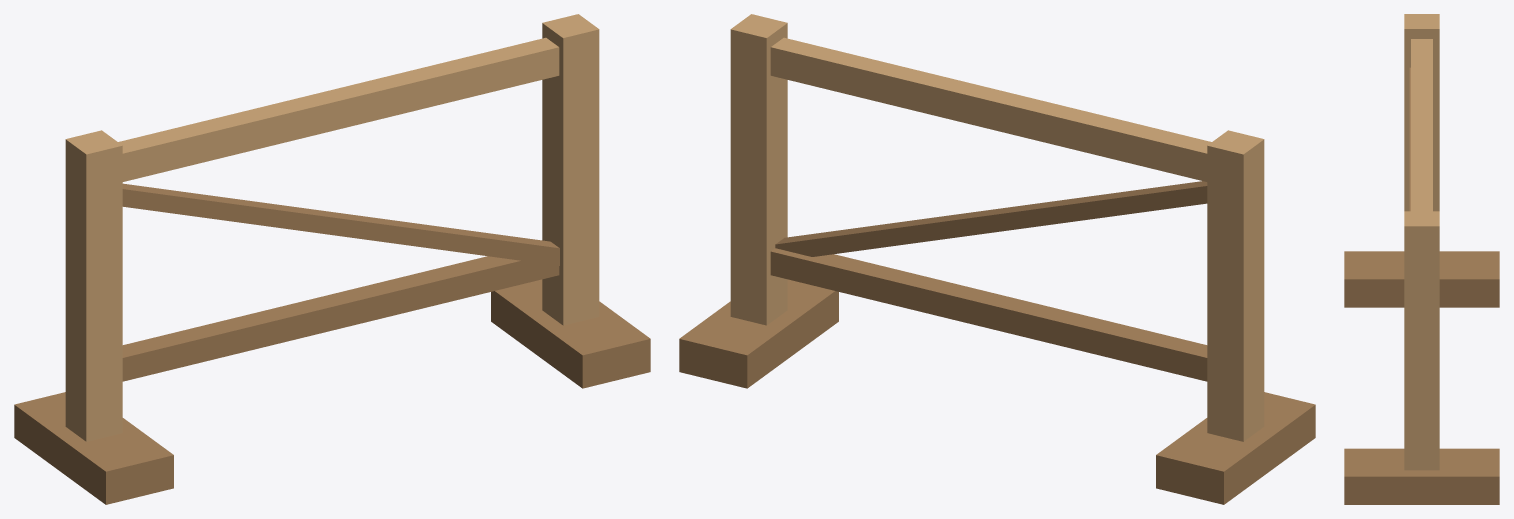
Rendered from shield-rack-empty.glb.
The picture shows the model from 3 angles, left to right: view 1: azimuth 30°, elevation 25°; view 2: azimuth 150°, elevation 25°; view 3: azimuth 270°, elevation 25°; orthographic projection. The views are drawn at different scales.
Parts seen in each view (by area): view 1: shield-rack-empty; view 2: shield-rack-empty; view 3: shield-rack-empty.
Part boxes in pixels (left/top/right/bottom): shield-rack-empty: left=14, top=14, right=650, bottom=504; shield-rack-empty: left=679, top=14, right=1315, bottom=504; shield-rack-empty: left=1344, top=14, right=1499, bottom=504.
Size of the model in its own units: 2.4 by 1.35 by 0.7.
